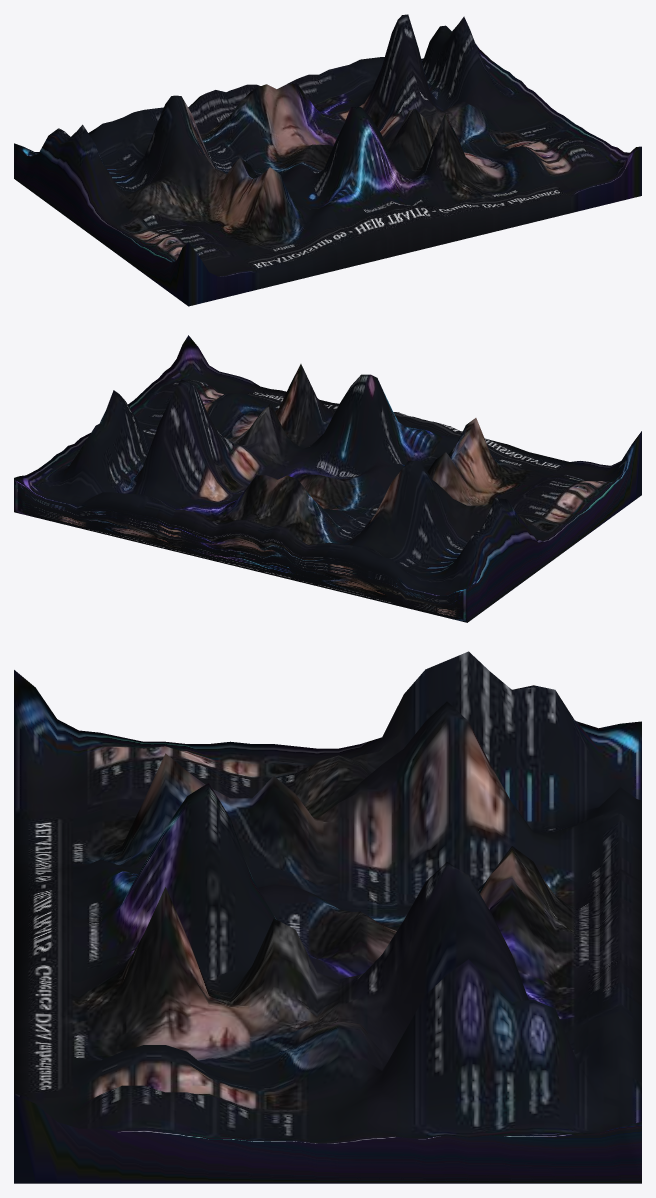
Rendered from RELATIONSHIP_09_Heir_Traits.glb.
The picture shows the model from 3 angles, top to bottom: view 1: azimuth 30°, elevation 25°; view 2: azimuth 150°, elevation 25°; view 3: azimuth 270°, elevation 25°; orthographic projection. The views are drawn at different scales.
Visible parts, largest first — view 1: RELATIONSHIP_09_Heir_Traits; view 2: RELATIONSHIP_09_Heir_Traits; view 3: RELATIONSHIP_09_Heir_Traits.
Boxes of the visible parts, x1,y1,x2,y2 form: RELATIONSHIP_09_Heir_Traits: [14, 14, 641, 306]; RELATIONSHIP_09_Heir_Traits: [14, 335, 641, 622]; RELATIONSHIP_09_Heir_Traits: [14, 651, 641, 1183].
Size of the model in its own units: 2 by 0.51 by 1.33.
Materials: 1 (1 with a texture image).
